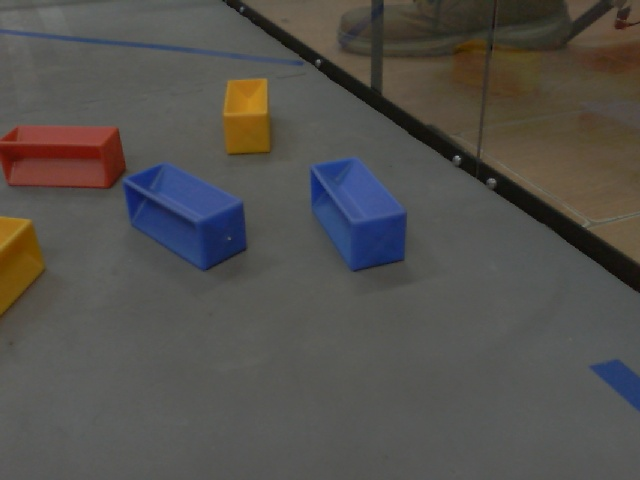BlueSample: (122, 161, 250, 272), (303, 157, 409, 274)
RedSample: (1, 121, 128, 191)
YellowSample: (1, 215, 48, 323), (218, 74, 277, 158)
